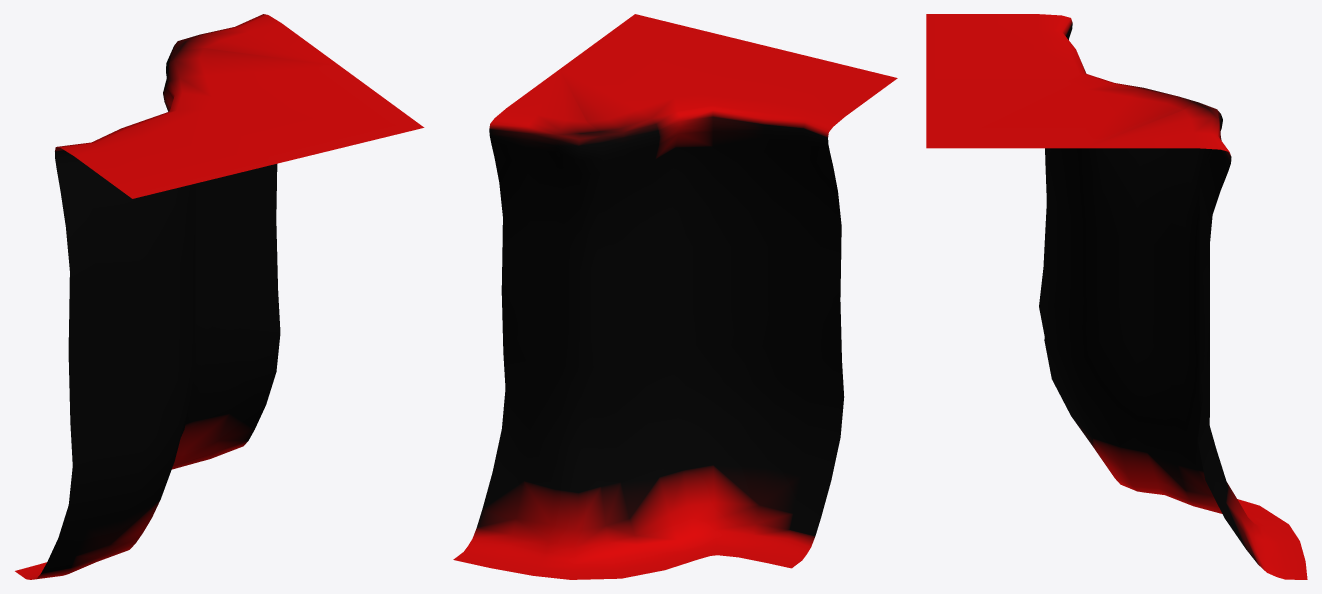
The model's file is GroundCliff05A 3M Background.fbx.
The picture shows the model from 3 angles, left to right: view 1: azimuth 30°, elevation 25°; view 2: azimuth 150°, elevation 25°; view 3: azimuth 270°, elevation 25°; orthographic projection. The views are drawn at different scales.
Visible parts, largest first — view 1: GroundCliff05A 3M Background; view 2: GroundCliff05A 3M Background; view 3: GroundCliff05A 3M Background.
Part boxes in pixels (<box>): GroundCliff05A 3M Background: <box>15,14,424,579</box>; GroundCliff05A 3M Background: <box>453,14,897,579</box>; GroundCliff05A 3M Background: <box>926,14,1307,579</box>.
Size of the model in its own units: 2 by 3 by 2.4.
